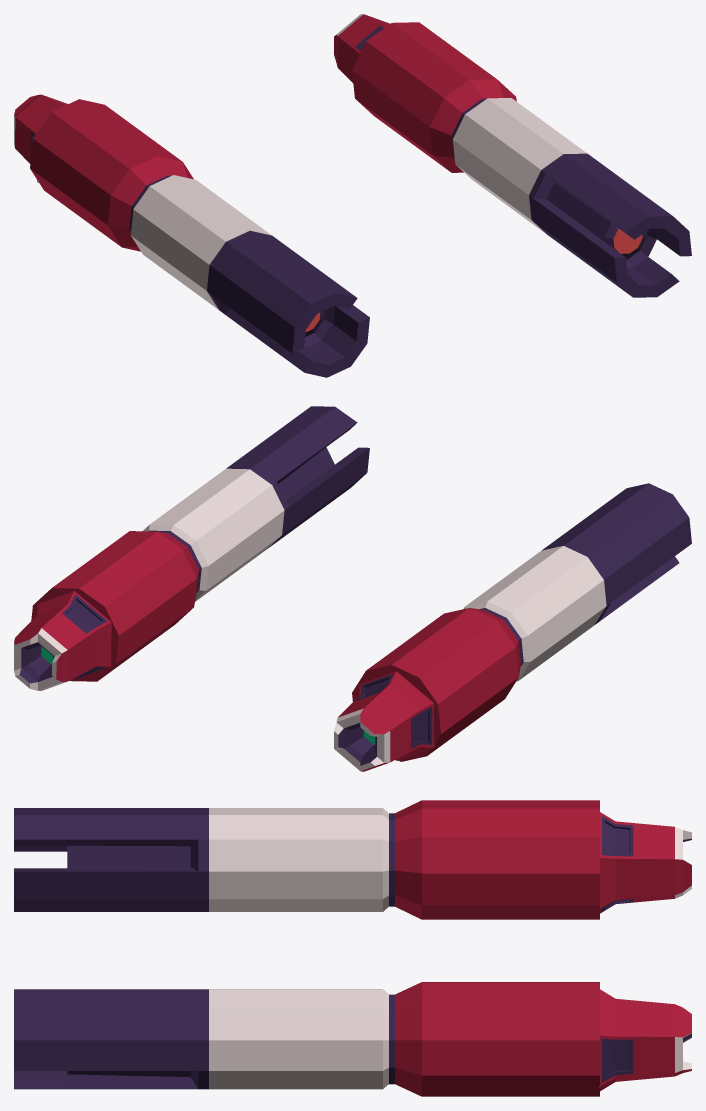
File: StarterWeapon.fbx
3 renders of one model, top to bottom at view 1: azimuth 30°, elevation 25°; view 2: azimuth 150°, elevation 25°; view 3: azimuth 270°, elevation 25°, orthographic. The views are drawn at different scales.
Parts seen in each view (by area): view 1: mergedBlocks; view 2: mergedBlocks; view 3: mergedBlocks.
Part boxes in pixels (box(x1,y1,x2,y2)): mergedBlocks: box(14, 14, 691, 377); mergedBlocks: box(14, 406, 691, 771); mergedBlocks: box(14, 800, 691, 1096).
Bounding box in the file's own units: 0.2229 × 0.0492 × 0.2788.
